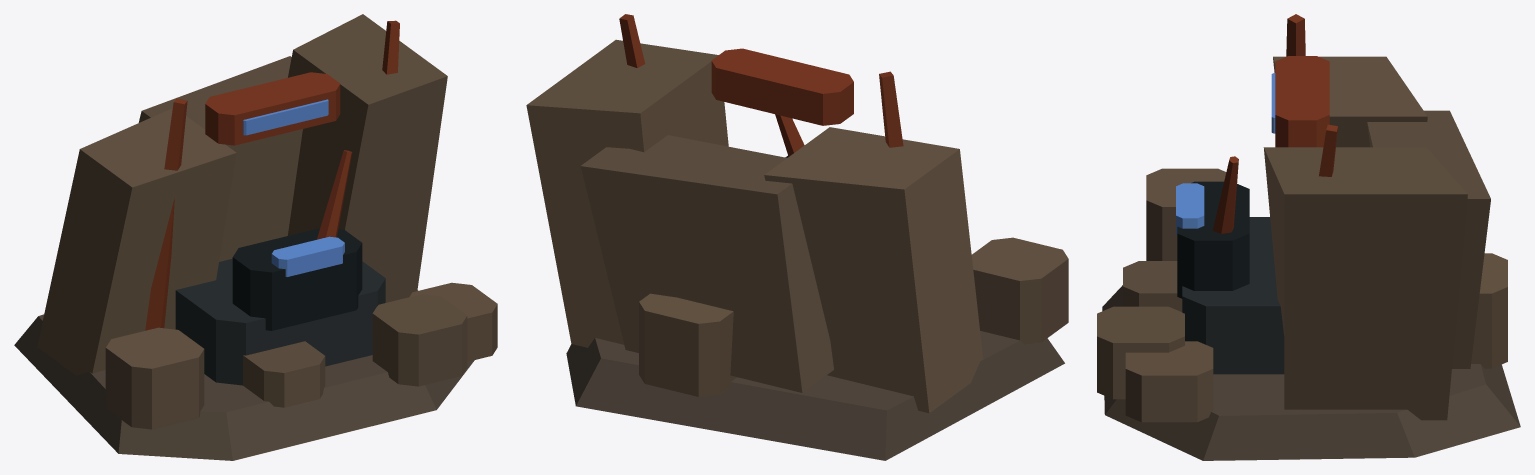
Rendered from ruin_civilization.glb.
3 views of the same model, side by side, from view 1: azimuth 30°, elevation 25°; view 2: azimuth 150°, elevation 25°; view 3: azimuth 270°, elevation 25° (orthographic). The views are drawn at different scales.
Visible parts, largest first — view 1: ruin_civilization; view 2: ruin_civilization; view 3: ruin_civilization.
Part boxes in pixels (x1,y1,x2,y2): ruin_civilization: (14,14,497,460); ruin_civilization: (526,14,1068,460); ruin_civilization: (1097,14,1520,460).
Bounding box in the file's own units: 1.82 × 1.37 × 1.64.
